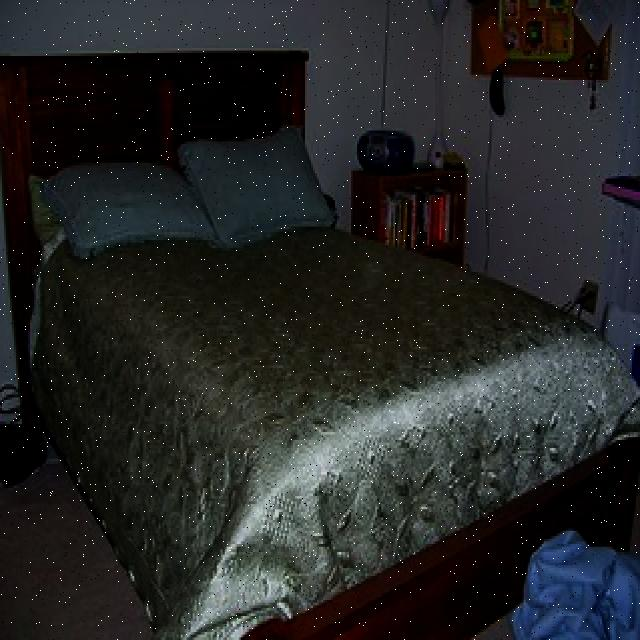bed: (0, 53, 622, 606)
